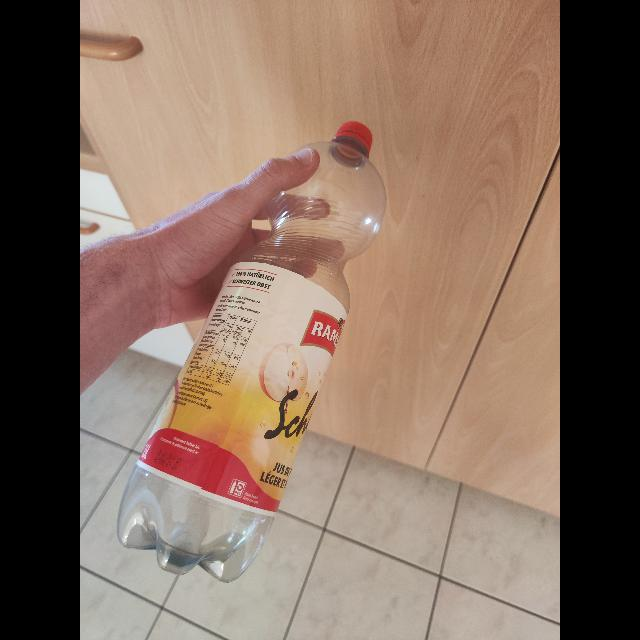Plastic: (116, 119, 390, 586)
